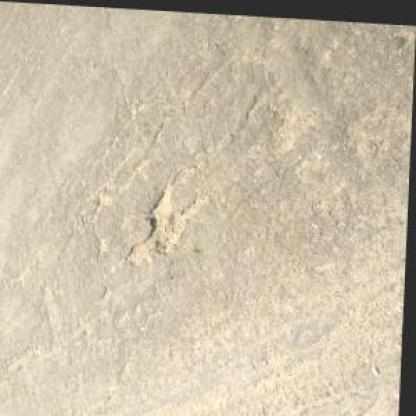pothole: (147, 178, 190, 255), (126, 239, 147, 266)
